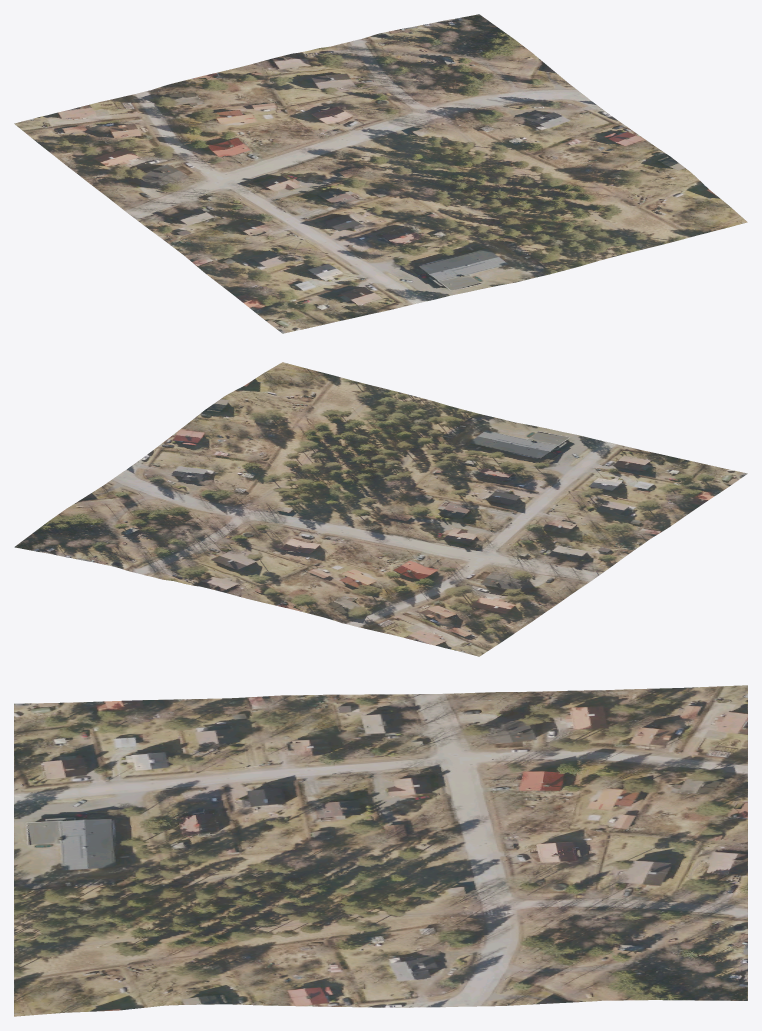
Rendered from CM_Terrain_24490458_6821227.fbx.
3 views of the same model, one above another, from view 1: azimuth 30°, elevation 25°; view 2: azimuth 150°, elevation 25°; view 3: azimuth 270°, elevation 25° (orthographic). The views are drawn at different scales.
Visible parts, largest first — view 1: CM_Terrain_24490458_6821227_LOD0; view 2: CM_Terrain_24490458_6821227_LOD0; view 3: CM_Terrain_24490458_6821227_LOD0.
Part boxes in pixels (x1,y1,x2,y2): CM_Terrain_24490458_6821227_LOD0: (14,14,747,333); CM_Terrain_24490458_6821227_LOD0: (14,362,747,656); CM_Terrain_24490458_6821227_LOD0: (14,685,747,1016).
Size of what is drawn, in the model's own units: 205 by 9.01 by 205.
